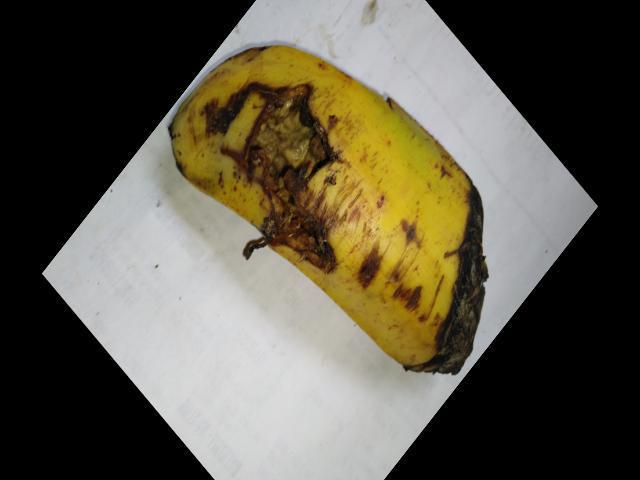rotten: (389, 149, 519, 416), (207, 81, 346, 260)
